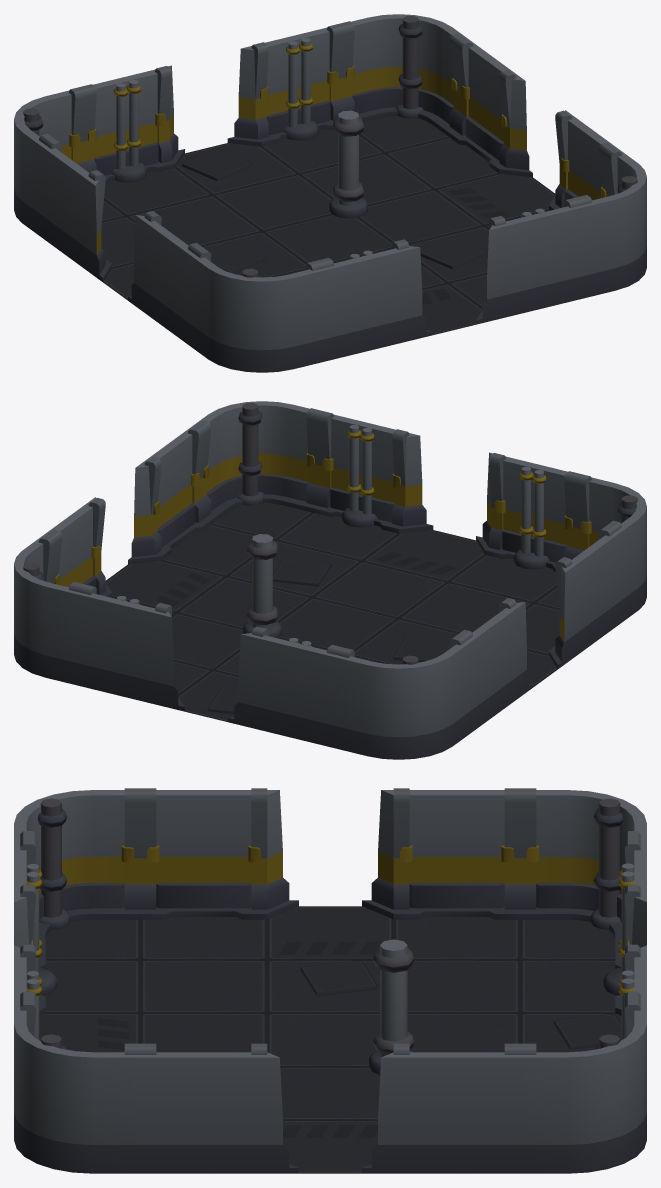
Rendered from k_room_large.glb.
3 renders of one model, top to bottom at view 1: azimuth 30°, elevation 25°; view 2: azimuth 150°, elevation 25°; view 3: azimuth 270°, elevation 25°, orthographic. The views are drawn at different scales.
Parts seen in each view (by area): view 1: room-large; view 2: room-large; view 3: room-large.
Part boxes in pixels (left/top/right/bottom): room-large: left=14, top=14, right=646, bottom=372; room-large: left=14, top=401, right=646, bottom=759; room-large: left=14, top=788, right=646, bottom=1173.
Size of the model in its own units: 20 by 4.25 by 20.
1 material, 1 textured.
